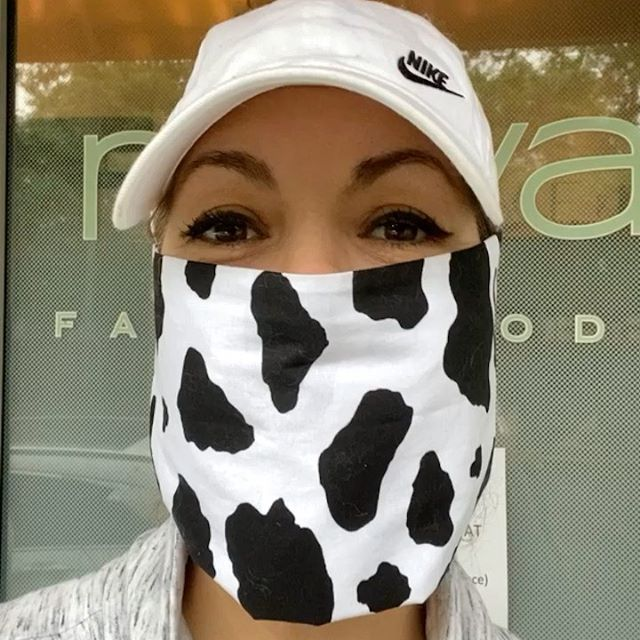homemade: (136, 248, 525, 621)
